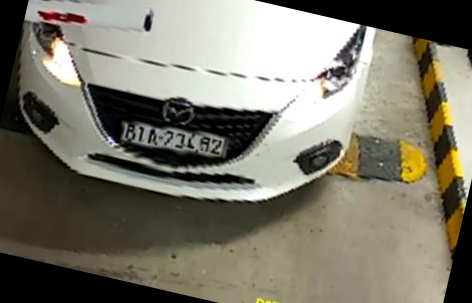plate: (124, 119, 229, 164)
